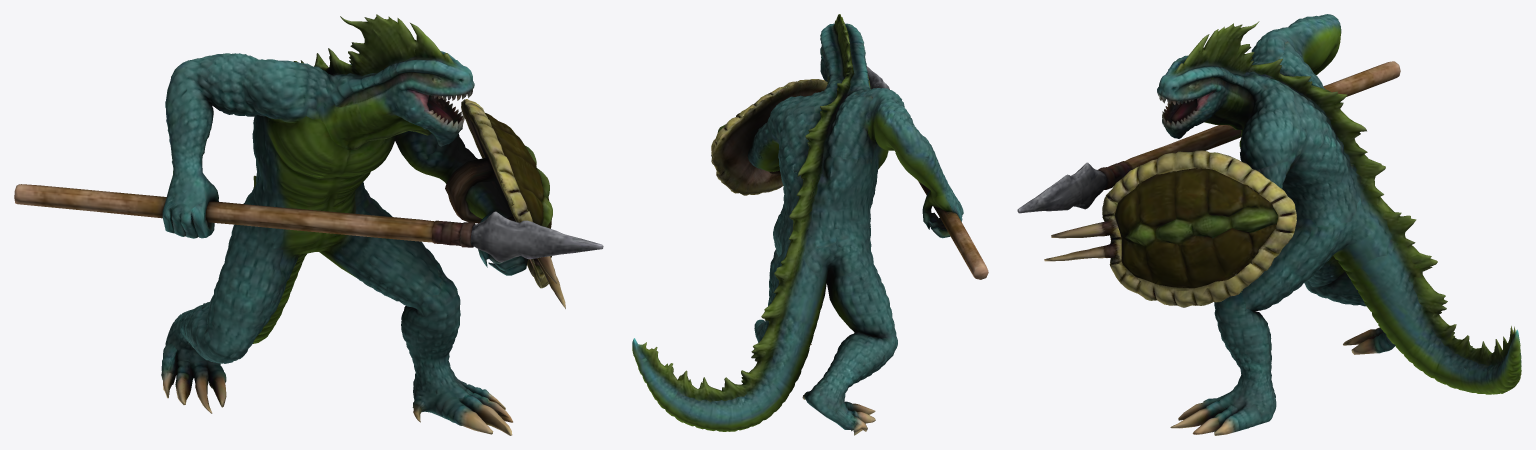
Rendered from MZ4250 - Lizardfolk with Spear_alt1.glb.
3 renders of one model, left to right at view 1: azimuth 30°, elevation 25°; view 2: azimuth 150°, elevation 25°; view 3: azimuth 270°, elevation 25°, orthographic. The views are drawn at different scales.
Visible parts, largest first — view 1: Lizardfolk Updated spear and shield.001; view 2: Lizardfolk Updated spear and shield.001; view 3: Lizardfolk Updated spear and shield.001.
Boxes of the visible parts, x1,y1,x2,y2 form: Lizardfolk Updated spear and shield.001: (14,14,603,435); Lizardfolk Updated spear and shield.001: (632,14,988,435); Lizardfolk Updated spear and shield.001: (1017,14,1521,435).
Bounding box in the file's own units: 37.21 × 36.02 × 44.81.
1 material, 1 textured.
